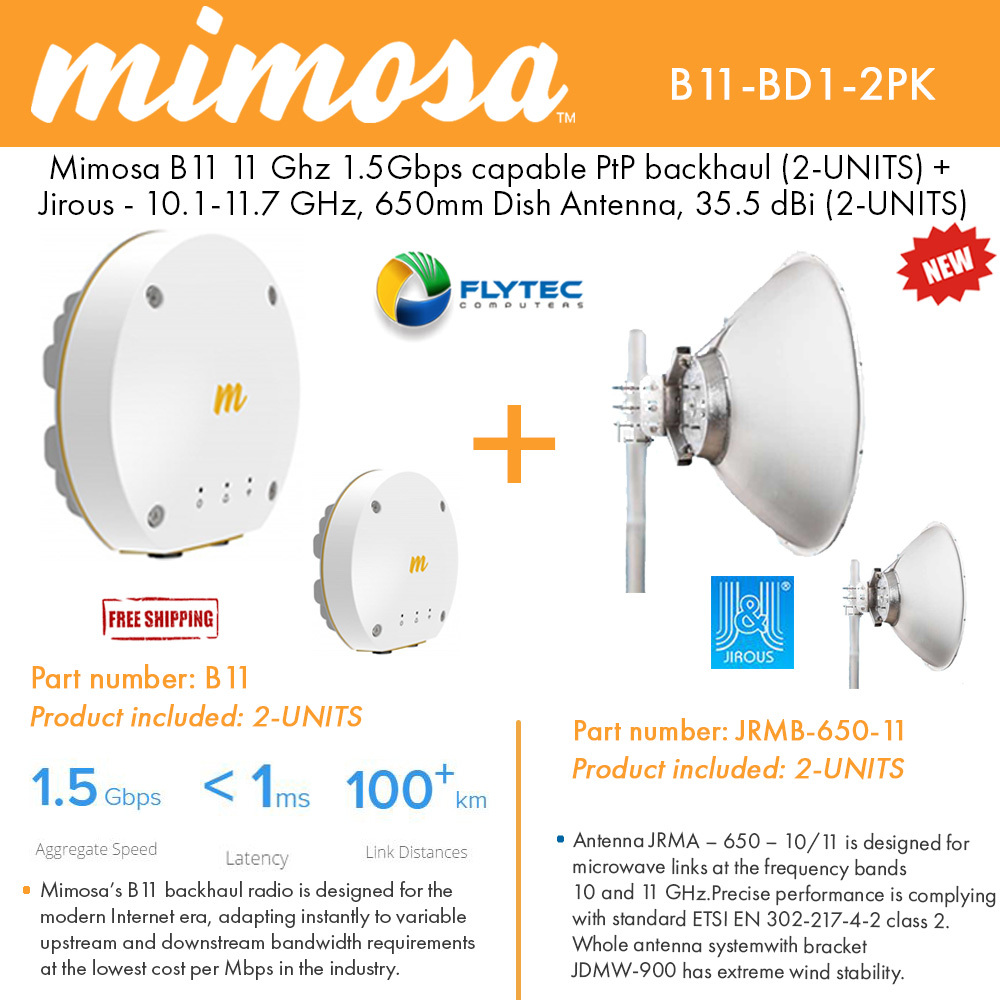ba: (34, 233, 312, 565), (609, 271, 881, 584), (303, 454, 469, 668), (803, 513, 985, 684)
